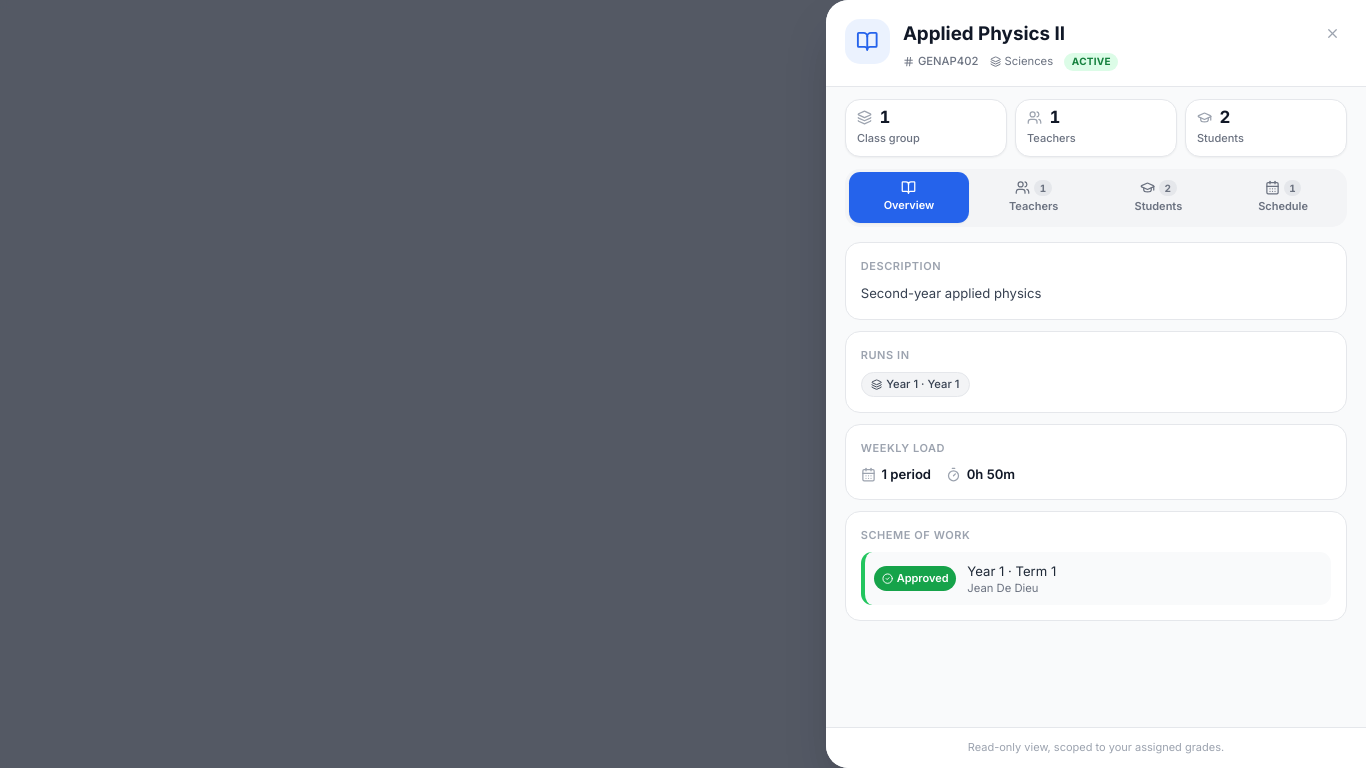
Test: SubjectDetailsPanel › jumps to a tab from its stat tile
Expected: the text "Sciences" is shown, 990,54 -> 1053,69
Click the button "2 Students".
click(1266, 128)  # box 1185,98 -> 1347,158
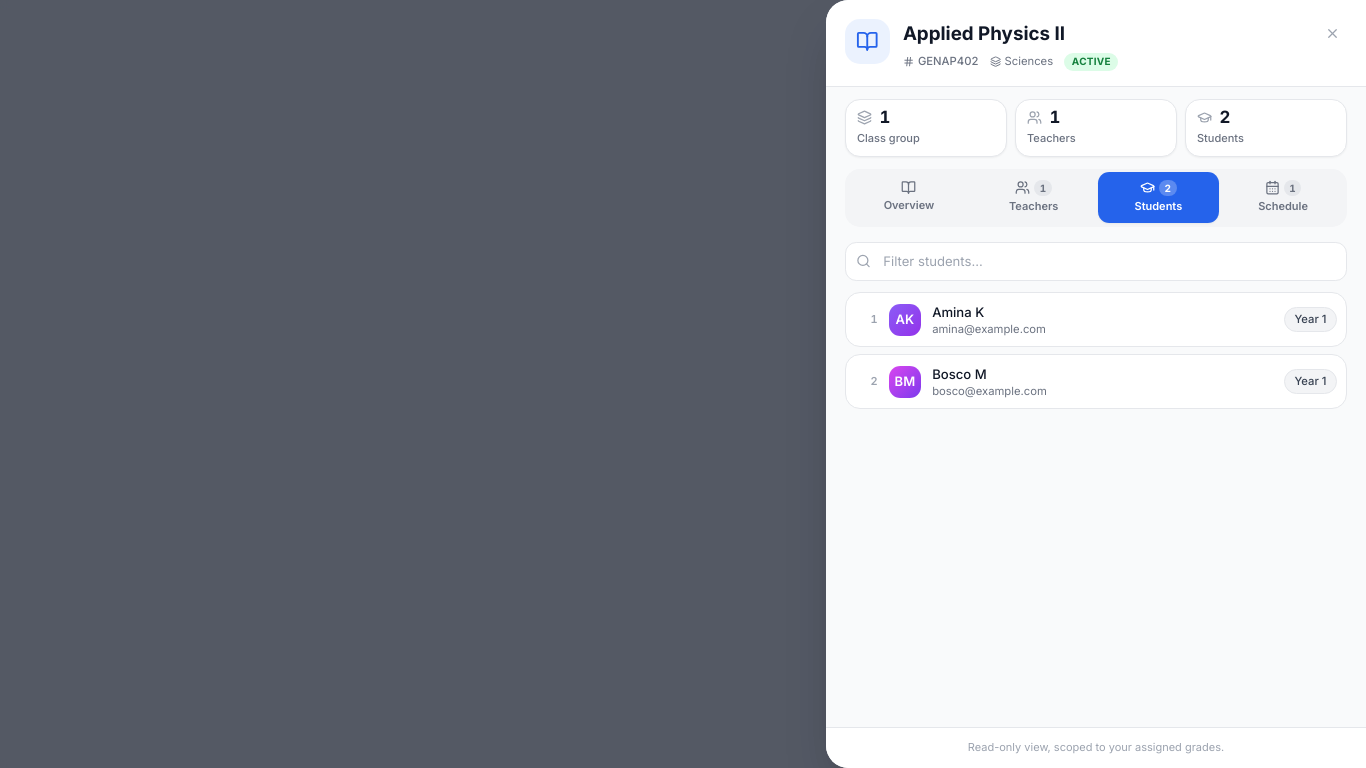
Result: the text "Amina K" is shown at 932,304 -> 984,320
